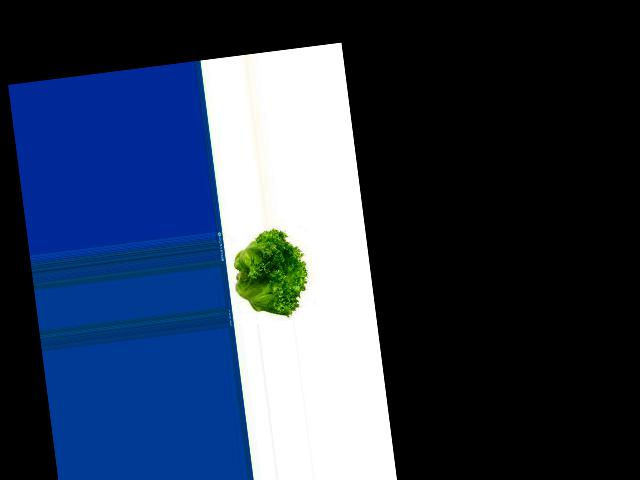lettuce: (235, 222, 322, 348)
